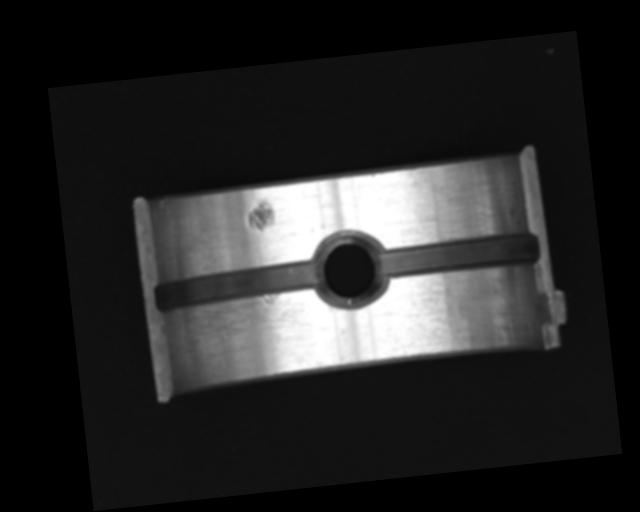bruise: (245, 196, 276, 233)
gap: (152, 257, 324, 315), (376, 231, 542, 280)
hole: (312, 226, 390, 313)
scratch: (175, 287, 328, 380)
